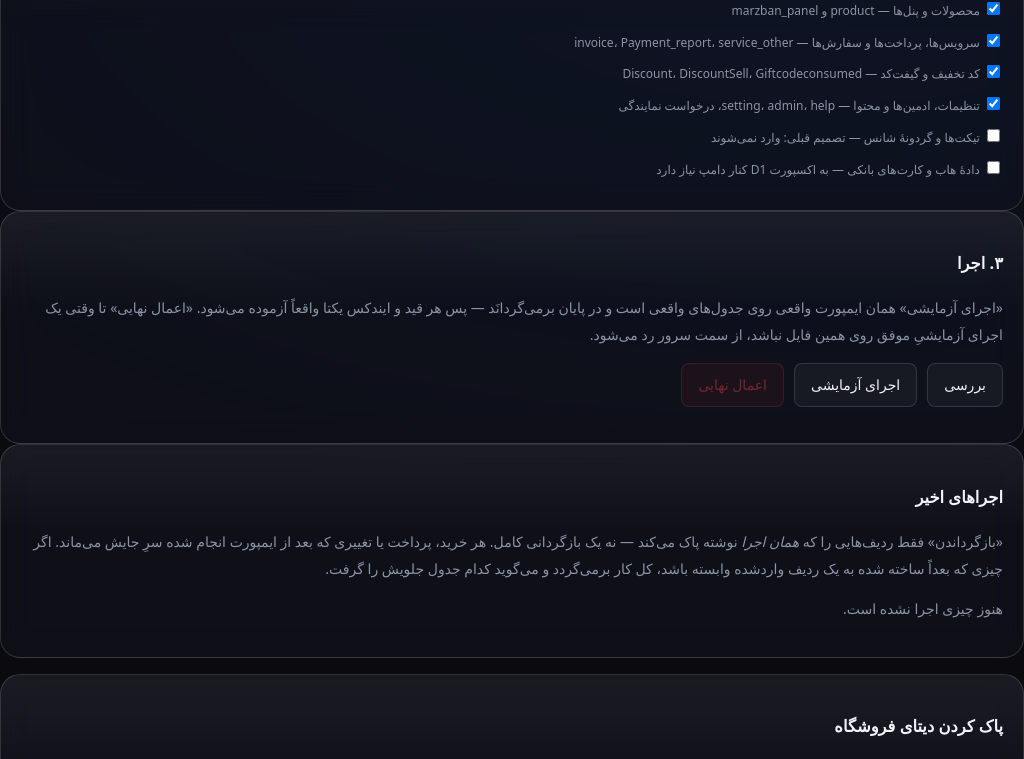
it: saying what the import is doing › shows the last line of the report while the run is still going
(page scrolled)
Step 1. Click the button "اجرای آزمایشی" → {"x": 856, "y": 385}, box [794, 363, 917, 407]
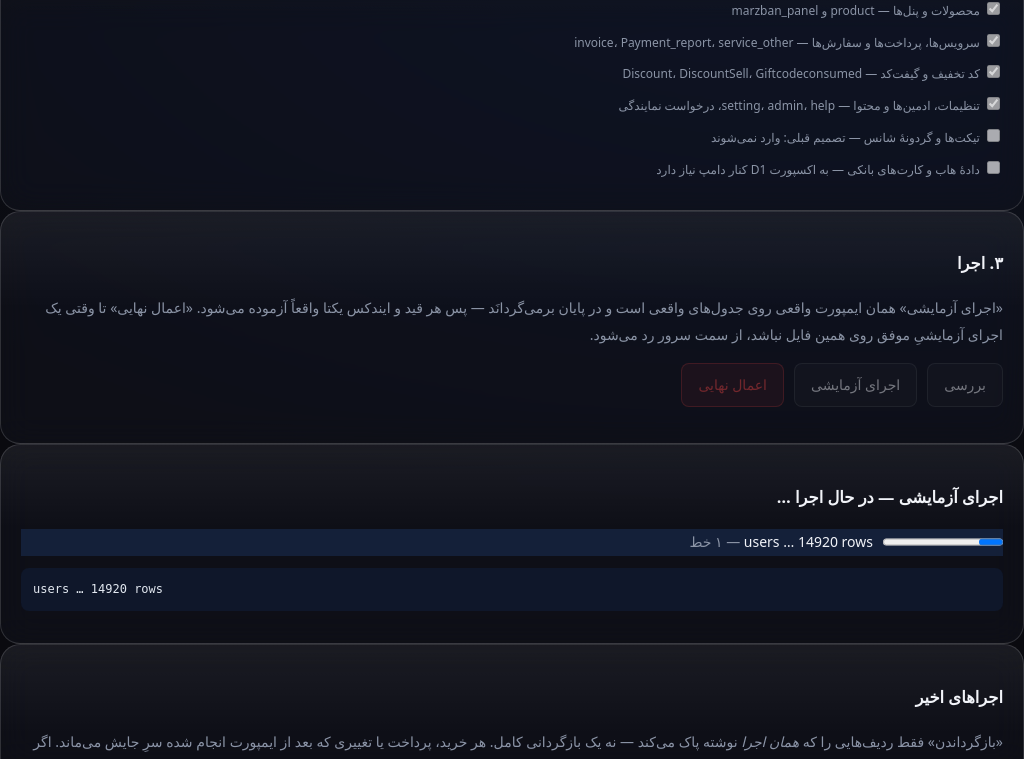
Now the element with class "alert-info" is shown, box [21, 529, 1003, 556]
Now the text "users … 14920 rows" in the row of "خط" is shown, box [744, 532, 873, 551]
